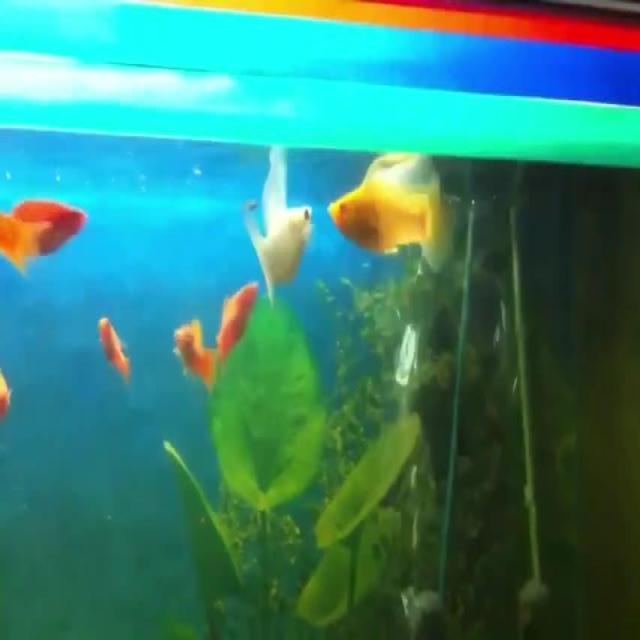PlatyFish: (328, 125, 469, 292), (247, 173, 317, 322), (0, 176, 97, 279), (212, 259, 262, 385), (170, 297, 223, 407)
